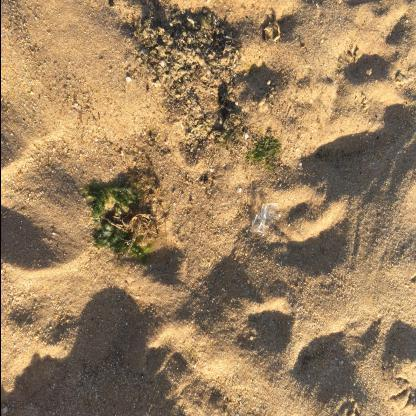plastik: (252, 203, 280, 237)
